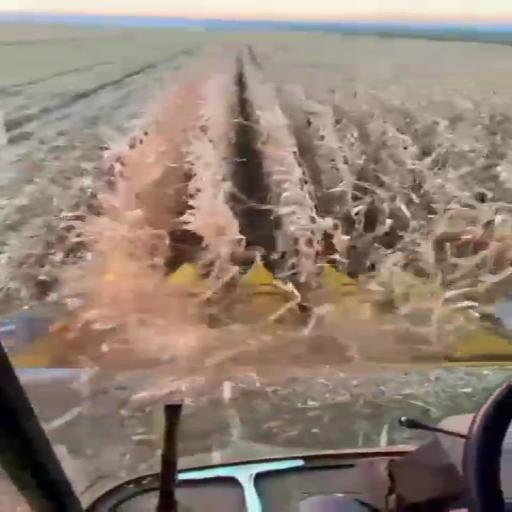misir: (0, 35, 511, 408)
